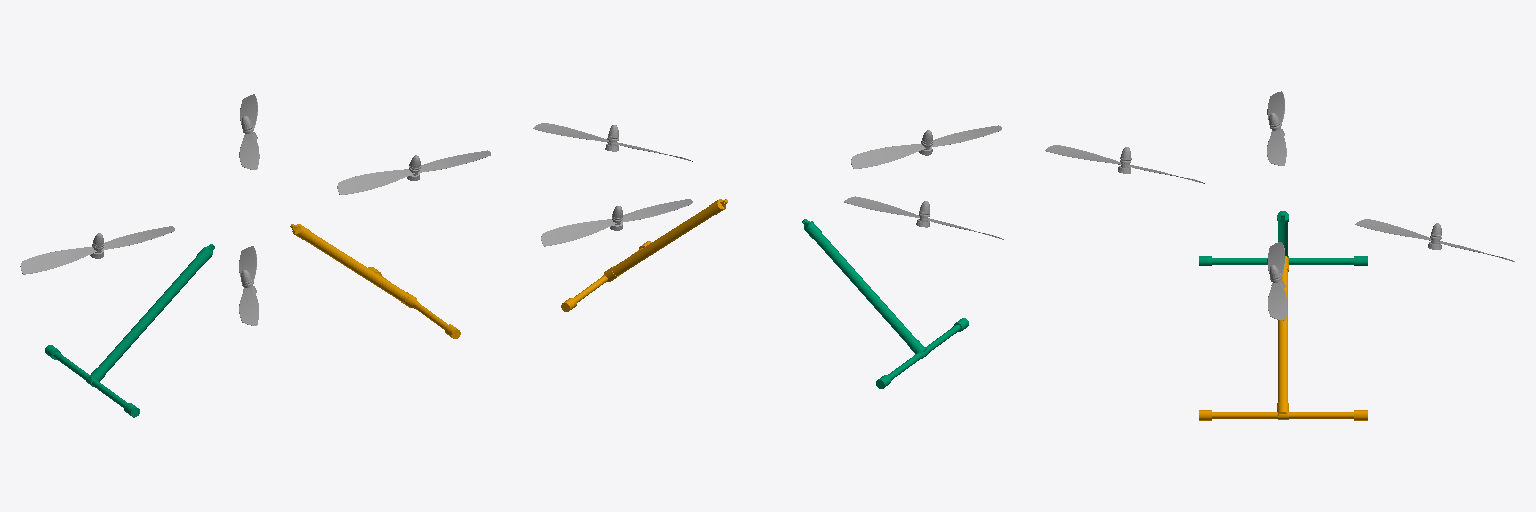
--- Render facts (derived) ---
Views: 3 orthographic renders of the robot side by side, from view 1: azimuth 30°, elevation 25°; view 2: azimuth 150°, elevation 25°; view 3: azimuth 270°, elevation 25°.
Robot: hexatilt — 12 links, 11 joints (2 revolute, 6 continuous, 3 fixed); root link base_link; default pose: all joints at 0 but 2 set to mid-range because 0 is outside their limits (leg_1_joint = -0.8725, leg_2_joint = 0.8725).
Links seen in each view (by area): view 1: leg_2, leg_1, rotor_4, rotor_5, rotor_3, rotor_2; view 2: leg_2, leg_1, rotor_2, rotor_3, rotor_4, rotor_5; view 3: leg_1, leg_2, rotor_5, rotor_4, rotor_2, rotor_3.
Boxes of the visible links, bbox=[...] form: leg_2: bbox=[45, 244, 214, 417]; leg_1: bbox=[290, 224, 460, 338]; rotor_4: bbox=[20, 226, 174, 274]; rotor_5: bbox=[337, 150, 490, 194]; rotor_3: bbox=[239, 246, 258, 325]; rotor_2: bbox=[239, 94, 259, 169]; leg_2: bbox=[802, 219, 968, 388]; leg_1: bbox=[561, 199, 727, 311]; rotor_2: bbox=[541, 199, 692, 246]; rotor_3: bbox=[851, 125, 1001, 168]; rotor_4: bbox=[844, 196, 1003, 239]; rotor_5: bbox=[533, 123, 692, 161]; leg_1: bbox=[1199, 256, 1367, 420]; leg_2: bbox=[1199, 211, 1367, 265]; rotor_5: bbox=[1267, 242, 1286, 320]; rotor_4: bbox=[1267, 91, 1286, 165]; rotor_2: bbox=[1355, 219, 1514, 261]; rotor_3: bbox=[1045, 145, 1204, 183].
Size in the robot's own frame: 1.28 by 1.12 by 0.4057 metres.
6 mesh visuals loaded from 4 distinct referenced files (2 Collada DAE); not drawn: 3 (reference not matched to a file when rendering).

URDF robot description (hexatilt):
<?xml version="1.0" ?>
<!-- =================================================================================== -->
<!-- |    This document was autogenerated by xacro from hexatilt_base.xacro            | -->
<!-- |    EDITING THIS FILE BY HAND IS NOT RECOMMENDED                                 | -->
<!-- =================================================================================== -->
<robot name="hexatilt" xmlns:xacro="http://ros.org/wiki/xacro">
  <gazebo>
    <plugin filename="libpropulsion_plugin.so" name="propulsion_plugin">
    </plugin>
  </gazebo>
  <!--<gazebo>
    <plugin name="control_plugin" filename="libcontrol_plugin.so">
    </plugin>
  </gazebo>-->
  <gazebo>
    <plugin filename="libfake_sensor_plugin.so" name="fake_sensor_plugin">
    </plugin>
  </gazebo>
  <gazebo>
    <plugin filename="libgazebo_ros_control.so" name="gazebo_ros_control">
      <robotNamespace>/drone</robotNamespace>
    </plugin>
  </gazebo>
  <gazebo>
    <plugin filename="libhector_gazebo_ros_imu.so" name="drone_internal_imu_plugin">
      <robotNamespace>/drone</robotNamespace>
      <alwaysOn>true</alwaysOn>
      <bodyName>base_link</bodyName>
      <frameName>base_link</frameName>
      <topicName>IMU/imu_data</topicName>
      <serviceName>drone/internal_sensors/imu_service</serviceName>
      <updateRate>100.0</updateRate>
      <gaussianNoise>0.001</gaussianNoise>
      <!-- accelerometer params -->
      <accelOffset>0.0 0.0 0.0</accelOffset>
      <accelGaussianNoise>0.0003 0.0003 0.0003</accelGaussianNoise>
      <accelDrift>0.00004 0.00004 0.00004</accelDrift>
      <accelFrequency>0.0025 0.0025 0.0025</accelFrequency>
      <!-- gyroscope params -->
      <rateOffset>0.0 0.0 0.0</rateOffset>
      <rateDrift>0.01 0.01 0.01</rateDrift>
      <rateDriftFrequency>0.001 0.001 0.001</rateDriftFrequency>
      <rateGaussianNoise>0.01 0.01 0.01</rateGaussianNoise>
    </plugin>
  </gazebo>
  <gazebo>
    <plugin filename="libhector_gazebo_ros_magnetic.so" name="drone_internal_magnetic_sim">
      <robotNamespace>/drone</robotNamespace>
      <updateRate>100.0</updateRate>
      <bodyName>base_link</bodyName>
      <frameId>base_link</frameId>
      <topicName>MAGNET/magnetic_data</topicName>
      <offset>0 0 0</offset>
      <drift>0.0 0.0 0.0</drift>
      <gaussianNoise>1.3e-3 1.3e-3 1.3e-3</gaussianNoise>
    </plugin>
  </gazebo>
  <gazebo>
    <plugin filename="libhector_gazebo_ros_gps.so" name="drone_internal_gps_sim">
      <robotNamespace>/drone</robotNamespace>
      <updateRate>4.0</updateRate>
      <bodyName>base_link</bodyName>
      <frameId>base_link</frameId>
      <topicName>GPS/fix</topicName>
      <velocityTopicName>GPS/fix_velocity</velocityTopicName>
      <referenceLatitude>49.860246</referenceLatitude>
      <referenceLongitude>8.687077</referenceLongitude>
      <drift>0.0 0.0 0.0</drift>
      <gaussianNoise>0.01 0.01 0.01</gaussianNoise>
      <velocityDrift>0 0 0</velocityDrift>
      <velocityGaussianNoise>0.01 0.01 0.01</velocityGaussianNoise>
    </plugin>
  </gazebo>
  <gazebo reference="base_link">
    <sensor name="camera1" type="camera">
      <update_rate>30.0</update_rate>
      <camera name="head">
        <vertical_fov>3.1415926</vertical_fov>
        <image>
          <width>800</width>
          <height>800</height>
          <format>R8G8B8</format>
        </image>
        <clip>
          <near>0.02</near>
          <far>300</far>
        </clip>
        <noise>
          <type>gaussian</type>
            --&gt;
          
          <!-- Noise is sampled independently per pixel on each frame.
               That pixel's noise value is added to each of its color
               channels, which at that point lie in the range [0,1]. -->
          <mean>0.0</mean>
          <stddev>0.007</stddev>
        </noise>
      </camera>
      <plugin filename="libgazebo_ros_camera.so" name="camera_controller">
        <robotNamespace>/drone</robotNamespace>
        <alwaysOn>true</alwaysOn>
        <updateRate>0.0</updateRate>
        <cameraName>camera1</cameraName>
        <imageTopicName>image_raw</imageTopicName>
        <cameraInfoTopicName>camera_info</cameraInfoTopicName>
        <frameName>base_link</frameName>
        <hackBaseline>0.07</hackBaseline>
        <distortionK1>0.0</distortionK1>
        <distortionK2>0.0</distortionK2>
        <distortionK3>0.0</distortionK3>
        <distortionT1>0.0</distortionT1>
        <distortionT2>0.0</distortionT2>
      </plugin>
    </sensor>
  </gazebo>
  <!-- [m] -->
  <link name="base_link"/>
  <joint name="base_joint" type="fixed">
    <origin rpy="0 0 0" xyz="0 0 0"/>
    <parent link="base_link"/>
    <child link="base_link_inertia"/>
  </joint>
  <link name="base_link_inertia">
    <inertial>
      <mass value="4.5"/>
      <!-- [kg] -->
      <origin xyz="0 0 0"/>
      <inertia ixx="0.0347563" ixy="0.0" ixz="0.0" iyy="0.0458929" iyz="0.0" izz="0.0977"/>
    </inertial>
    <visual>
      <origin rpy="0 0 0" xyz="0 0 0"/>
      <geometry>
        <mesh filename="package://hexatilt_description/meshes/hexatilt.dae" scale="0.001 0.001 0.001"/>
        <!-- <box size="${body_width} ${body_width} ${body_height}"/> -->
        <!-- [m] [m] [m] -->
      </geometry>
    </visual>
    <collision>
      <origin rpy="0 0 0" xyz="0 0 0"/>
      <geometry>
        <cylinder length="0.085" radius="0.45"/>
        <!-- [m] -->
        <!--box size="${body_width} ${body_width} ${body_height}" /-->
        <!-- [m] [m] [m] -->
      </geometry>
    </collision>
  </link>
  <!-- attach multirotor_base_plugin to the base_link -->
  <gazebo>
    <plugin filename="librotors_gazebo_multirotor_base_plugin.so" name="rosbag">
      <robotNamespace>hexatilt</robotNamespace>
      <linkName>base_link</linkName>
      <rotorVelocitySlowdownSim>10</rotorVelocitySlowdownSim>
    </plugin>
  </gazebo>
  <gazebo reference="base_link">
    <material>Gazebo/DarkGrey</material>
    <collision name="base_link_inertia_collision">
      <surface>
        <contact>
          <ode>
            <min_depth>0.001</min_depth>
            <max_vel>0.0</max_vel>
          </ode>
        </contact>
        <friction>
          <ode/>
        </friction>
      </surface>
    </collision>
  </gazebo>
  <joint name="rotor_0_joint" type="continuous">
    <origin rpy="0.2373645808 0  2.09439336" xyz="0.23 -0.37 0.06"/>
    <axis xyz="0 0 1"/>
    <!-- TODO(ff): not currently set because it's not yet supported -->
    <!-- <limit effort="2000" velocity="${max_rot_velocity}" /> -->
    <parent link="base_link"/>
    <child link="rotor_0"/>
  </joint>
  <!-- TODO(ff): not currently set because it's not yet supported -->
  <!-- <gazebo reference="rotor_${motor_number}_joint"> <axis> <xyz>0 0 1</xyz>
      <limit> <velocity> ${max_rot_velocity} </velocity> </limit> </axis> </gazebo> -->
  <link name="rotor_0">
    <inertial>
      <mass value="0.01"/>
      <!-- [kg] -->
      <inertia ixx="1.95e-06" ixy="0.0" ixz="0.0" iyy="0.00120975" iyz="0.0" izz="0.00121155"/>
    </inertial>
    <visual>
      <geometry>
        <!-- <cylinder length="0.005" radius="${radius_rotor}"/> -->
        <!-- [m] -->
        <mesh filename="package://hexatilt_description/meshes/hexatilt_prop_ccw.dae" scale="0.098 0.098 0.098"/>
        <!-- <box size="${2*radius_rotor} 0.01 0.005"/> -->
      </geometry>
    </visual>
    <collision>
      <geometry>
        <cylinder length="0.005" radius="0.1905"/>
        <!-- [m] -->
      </geometry>
    </collision>
  </link>
  <gazebo>
    <plugin filename="librotors_gazebo_motor_model.so" name="front_right_motor_model">
      <robotNamespace>hexatilt</robotNamespace>
      <jointName>rotor_0_joint</jointName>
      <linkName>rotor_0</linkName>
      <turningDirection>ccw</turningDirection>
      <timeConstantUp>0.0125</timeConstantUp>
      <timeConstantDown>0.025</timeConstantDown>
      <maxRotVelocity>1100</maxRotVelocity>
      <motorConstant>8.54858e-06</motorConstant>
      <momentConstant>0.06</momentConstant>
      <commandSubTopic>/gazebo/command/motor_speed</commandSubTopic>
      <motorNumber>0</motorNumber>
      <rotorDragCoefficient>0.000806428</rotorDragCoefficient>
      <rollingMomentCoefficient>1e-06</rollingMomentCoefficient>
      <motorSpeedPubTopic>/motor_speed/0</motorSpeedPubTopic>
      <rotorVelocitySlowdownSim>10</rotorVelocitySlowdownSim>
      <!--
        <gazebo_joint_control_pid>
          <p>0.1</p>
          <i>0</i>
          <d>0</d>
          <iMax>0</iMax>
          <iMin>0</iMin>
          <cmdMax>3</cmdMax>
          <cmdMin>-3</cmdMin>
        </gazebo_joint_control_pid>
      -->
    </plugin>
  </gazebo>
  <gazebo reference="rotor_0">
    <material>Gazebo/DarkGrey</material>
  </gazebo>
  <joint name="rotor_1_joint" type="continuous">
    <origin rpy="-0.2373645808 0  -1.04719668" xyz="-0.2 0.37 0.06"/>
    <axis xyz="0 0 1"/>
    <!-- TODO(ff): not currently set because it's not yet supported -->
    <!-- <limit effort="2000" velocity="${max_rot_velocity}" /> -->
    <parent link="base_link"/>
    <child link="rotor_1"/>
  </joint>
  <!-- TODO(ff): not currently set because it's not yet supported -->
  <!-- <gazebo reference="rotor_${motor_number}_joint"> <axis> <xyz>0 0 1</xyz>
      <limit> <velocity> ${max_rot_velocity} </velocity> </limit> </axis> </gazebo> -->
  <link name="rotor_1">
    <inertial>
      <mass value="0.01"/>
      <!-- [kg] -->
      <inertia ixx="1.95e-06" ixy="0.0" ixz="0.0" iyy="0.00120975" iyz="0.0" izz="0.00121155"/>
    </inertial>
    <visual>
      <geometry>
        <!-- <cylinder length="0.005" radius="${radius_rotor}"/> -->
        <!-- [m] -->
        <mesh filename="package://hexatilt_description/meshes/hexatilt_prop_ccw.dae" scale="0.098 0.098 0.098"/>
        <!-- <box size="${2*radius_rotor} 0.01 0.005"/> -->
      </geometry>
    </visual>
    <collision>
      <geometry>
        <cylinder length="0.005" radius="0.1905"/>
        <!-- [m] -->
      </geometry>
    </collision>
  </link>
  <gazebo>
    <plugin filename="librotors_gazebo_motor_model.so" name="back_left_motor_model">
      <robotNamespace>hexatilt</robotNamespace>
      <jointName>rotor_1_joint</jointName>
      <linkName>rotor_1</linkName>
      <turningDirection>ccw</turningDirection>
      <timeConstantUp>0.0125</timeConstantUp>
      <timeConstantDown>0.025</timeConstantDown>
      <maxRotVelocity>1100</maxRotVelocity>
      <motorConstant>8.54858e-06</motorConstant>
      <momentConstant>0.06</momentConstant>
      <commandSubTopic>/gazebo/command/motor_speed</commandSubTopic>
      <motorNumber>1</motorNumber>
      <rotorDragCoefficient>0.000806428</rotorDragCoefficient>
      <rollingMomentCoefficient>1e-06</rollingMomentCoefficient>
      <motorSpeedPubTopic>/motor_speed/1</motorSpeedPubTopic>
      <rotorVelocitySlowdownSim>10</rotorVelocitySlowdownSim>
      <!--
        <gazebo_joint_control_pid>
          <p>0.1</p>
          <i>0</i>
          <d>0</d>
          <iMax>0</iMax>
          <iMin>0</iMin>
          <cmdMax>3</cmdMax>
          <cmdMin>-3</cmdMin>
        </gazebo_joint_control_pid>
      -->
    </plugin>
  </gazebo>
  <gazebo reference="rotor_1">
    <material>Gazebo/Red</material>
  </gazebo>
  <joint name="rotor_2_joint" type="continuous">
    <origin rpy="0.2373645808 0  4.18878672" xyz="0.2 0.37 0.06"/>
    <axis xyz="0 0 1"/>
    <!-- TODO(ff): not currently set because it's not yet supported -->
    <!-- <limit effort="2000" velocity="${max_rot_velocity}" /> -->
    <parent link="base_link"/>
    <child link="rotor_2"/>
  </joint>
  <!-- TODO(ff): not currently set because it's not yet supported -->
  <!-- <gazebo reference="rotor_${motor_number}_joint"> <axis> <xyz>0 0 1</xyz>
      <limit> <velocity> ${max_rot_velocity} </velocity> </limit> </axis> </gazebo> -->
  <link name="rotor_2">
    <inertial>
      <mass value="0.01"/>
      <!-- [kg] -->
      <inertia ixx="1.95e-06" ixy="0.0" ixz="0.0" iyy="0.00120975" iyz="0.0" izz="0.00121155"/>
    </inertial>
    <visual>
      <geometry>
        <!-- <cylinder length="0.005" radius="${radius_rotor}"/> -->
        <!-- [m] -->
        <mesh filename="package://hexatilt_description/meshes/hexatilt_prop_cw.dae" scale="0.098 0.098 0.098"/>
        <!-- <box size="${2*radius_rotor} 0.01 0.005"/> -->
      </geometry>
    </visual>
    <collision>
      <geometry>
        <cylinder length="0.005" radius="0.1905"/>
        <!-- [m] -->
      </geometry>
    </collision>
  </link>
  <gazebo>
    <plugin filename="librotors_gazebo_motor_model.so" name="front_left_motor_model">
      <robotNamespace>hexatilt</robotNamespace>
      <jointName>rotor_2_joint</jointName>
      <linkName>rotor_2</linkName>
      <turningDirection>cw</turningDirection>
      <timeConstantUp>0.0125</timeConstantUp>
      <timeConstantDown>0.025</timeConstantDown>
      <maxRotVelocity>1100</maxRotVelocity>
      <motorConstant>8.54858e-06</motorConstant>
      <momentConstant>0.06</momentConstant>
      <commandSubTopic>/gazebo/command/motor_speed</commandSubTopic>
      <motorNumber>2</motorNumber>
      <rotorDragCoefficient>0.000806428</rotorDragCoefficient>
      <rollingMomentCoefficient>1e-06</rollingMomentCoefficient>
      <motorSpeedPubTopic>/motor_speed/2</motorSpeedPubTopic>
      <rotorVelocitySlowdownSim>10</rotorVelocitySlowdownSim>
      <!--
        <gazebo_joint_control_pid>
          <p>0.1</p>
          <i>0</i>
          <d>0</d>
          <iMax>0</iMax>
          <iMin>0</iMin>
          <cmdMax>3</cmdMax>
          <cmdMin>-3</cmdMin>
        </gazebo_joint_control_pid>
      -->
    </plugin>
  </gazebo>
  <gazebo reference="rotor_2">
    <material>Gazebo/Red</material>
  </gazebo>
  <joint name="rotor_3_joint" type="continuous">
    <origin rpy="-0.2373645808 0  1.04719668" xyz="-0.23 -0.37 0.06"/>
    <axis xyz="0 0 1"/>
    <!-- TODO(ff): not currently set because it's not yet supported -->
    <!-- <limit effort="2000" velocity="${max_rot_velocity}" /> -->
    <parent link="base_link"/>
    <child link="rotor_3"/>
  </joint>
  <!-- TODO(ff): not currently set because it's not yet supported -->
  <!-- <gazebo reference="rotor_${motor_number}_joint"> <axis> <xyz>0 0 1</xyz>
      <limit> <velocity> ${max_rot_velocity} </velocity> </limit> </axis> </gazebo> -->
  <link name="rotor_3">
    <inertial>
      <mass value="0.01"/>
      <!-- [kg] -->
      <inertia ixx="1.95e-06" ixy="0.0" ixz="0.0" iyy="0.00120975" iyz="0.0" izz="0.00121155"/>
    </inertial>
    <visual>
      <geometry>
        <!-- <cylinder length="0.005" radius="${radius_rotor}"/> -->
        <!-- [m] -->
        <mesh filename="package://hexatilt_description/meshes/hexatilt_prop_cw.dae" scale="0.098 0.098 0.098"/>
        <!-- <box size="${2*radius_rotor} 0.01 0.005"/> -->
      </geometry>
    </visual>
    <collision>
      <geometry>
        <cylinder length="0.005" radius="0.1905"/>
        <!-- [m] -->
      </geometry>
    </collision>
  </link>
  <gazebo>
    <plugin filename="librotors_gazebo_motor_model.so" name="back_right_motor_model">
      <robotNamespace>hexatilt</robotNamespace>
      <jointName>rotor_3_joint</jointName>
      <linkName>rotor_3</linkName>
      <turningDirection>cw</turningDirection>
      <timeConstantUp>0.0125</timeConstantUp>
      <timeConstantDown>0.025</timeConstantDown>
      <maxRotVelocity>1100</maxRotVelocity>
      <motorConstant>8.54858e-06</motorConstant>
      <momentConstant>0.06</momentConstant>
      <commandSubTopic>/gazebo/command/motor_speed</commandSubTopic>
      <motorNumber>3</motorNumber>
      <rotorDragCoefficient>0.000806428</rotorDragCoefficient>
      <rollingMomentCoefficient>1e-06</rollingMomentCoefficient>
      <motorSpeedPubTopic>/motor_speed/3</motorSpeedPubTopic>
      <rotorVelocitySlowdownSim>10</rotorVelocitySlowdownSim>
      <!--
        <gazebo_joint_control_pid>
          <p>0.1</p>
          <i>0</i>
          <d>0</d>
          <iMax>0</iMax>
          <iMin>0</iMin>
          <cmdMax>3</cmdMax>
          <cmdMin>-3</cmdMin>
        </gazebo_joint_control_pid>
      -->
    </plugin>
  </gazebo>
  <gazebo reference="rotor_3">
    <material>Gazebo/DarkGrey</material>
  </gazebo>
  <joint name="rotor_4_joint" type="continuous">
    <origin rpy="0.2373645808 0  0.0" xyz="-0.43 -0.01 0.06"/>
    <axis xyz="0 0 1"/>
    <!-- TODO(ff): not currently set because it's not yet supported -->
    <!-- <limit effort="2000" velocity="${max_rot_velocity}" /> -->
    <parent link="base_link"/>
    <child link="rotor_4"/>
  </joint>
  <!-- TODO(ff): not currently set because it's not yet supported -->
  <!-- <gazebo reference="rotor_${motor_number}_joint"> <axis> <xyz>0 0 1</xyz>
      <limit> <velocity> ${max_rot_velocity} </velocity> </limit> </axis> </gazebo> -->
  <link name="rotor_4">
    <inertial>
      <mass value="0.01"/>
      <!-- [kg] -->
      <inertia ixx="1.95e-06" ixy="0.0" ixz="0.0" iyy="0.00120975" iyz="0.0" izz="0.00121155"/>
    </inertial>
    <visual>
      <geometry>
        <!-- <cylinder length="0.005" radius="${radius_rotor}"/> -->
        <!-- [m] -->
        <mesh filename="package://hexatilt_description/meshes/hexatilt_prop_cw.dae" scale="0.098 0.098 0.098"/>
        <!-- <box size="${2*radius_rotor} 0.01 0.005"/> -->
      </geometry>
    </visual>
    <collision>
      <geometry>
        <cylinder length="0.005" radius="0.1905"/>
        <!-- [m] -->
      </geometry>
    </collision>
  </link>
  <gazebo>
    <plugin filename="librotors_gazebo_motor_model.so" name="back_right_motor_model">
      <robotNamespace>hexatilt</robotNamespace>
      <jointName>rotor_4_joint</jointName>
      <linkName>rotor_4</linkName>
      <turningDirection>cw</turningDirection>
      <timeConstantUp>0.0125</timeConstantUp>
      <timeConstantDown>0.025</timeConstantDown>
      <maxRotVelocity>1100</maxRotVelocity>
      <motorConstant>8.54858e-06</motorConstant>
      <momentConstant>0.06</momentConstant>
      <commandSubTopic>/gazebo/command/motor_speed</commandSubTopic>
      <motorNumber>4</motorNumber>
      <rotorDragCoefficient>0.000806428</rotorDragCoefficient>
      <rollingMomentCoefficient>1e-06</rollingMomentCoefficient>
      <motorSpeedPubTopic>/motor_speed/4</motorSpeedPubTopic>
      <rotorVelocitySlowdownSim>10</rotorVelocitySlowdownSim>
      <!--
        <gazebo_joint_control_pid>
          <p>0.1</p>
          <i>0</i>
          <d>0</d>
          <iMax>0</iMax>
          <iMin>0</iMin>
          <cmdMax>3</cmdMax>
          <cmdMin>-3</cmdMin>
        </gazebo_joint_control_pid>
      -->
    </plugin>
  </gazebo>
  <gazebo reference="rotor_4">
    <material>Gazebo/DarkGrey</material>
  </gazebo>
  <joint name="rotor_5_joint" type="continuous">
    <origin rpy="-0.2373645808 0  3.14159004" xyz="0.43 -0.01 0.06"/>
    <axis xyz="0 0 1"/>
    <!-- TODO(ff): not currently set because it's not yet supported -->
    <!-- <limit effort="2000" velocity="${max_rot_velocity}" /> -->
    <parent link="base_link"/>
    <child link="rotor_5"/>
  </joint>
  <!-- TODO(ff): not currently set because it's not yet supported -->
  <!-- <gazebo reference="rotor_${motor_number}_joint"> <axis> <xyz>0 0 1</xyz>
      <limit> <velocity> ${max_rot_velocity} </velocity> </limit> </axis> </gazebo> -->
  <link name="rotor_5">
    <inertial>
      <mass value="0.01"/>
      <!-- [kg] -->
      <inertia ixx="1.95e-06" ixy="0.0" ixz="0.0" iyy="0.00120975" iyz="0.0" izz="0.00121155"/>
    </inertial>
    <visual>
      <geometry>
        <!-- <cylinder length="0.005" radius="${radius_rotor}"/> -->
        <!-- [m] -->
        <mesh filename="package://hexatilt_description/meshes/hexatilt_prop_cw.dae" scale="0.098 0.098 0.098"/>
        <!-- <box size="${2*radius_rotor} 0.01 0.005"/> -->
      </geometry>
    </visual>
    <collision>
      <geometry>
        <cylinder length="0.005" radius="0.1905"/>
        <!-- [m] -->
      </geometry>
    </collision>
  </link>
  <gazebo>
    <plugin filename="librotors_gazebo_motor_model.so" name="back_right_motor_model">
      <robotNamespace>hexatilt</robotNamespace>
      <jointName>rotor_5_joint</jointName>
      <linkName>rotor_5</linkName>
      <turningDirection>cw</turningDirection>
      <timeConstantUp>0.0125</timeConstantUp>
      <timeConstantDown>0.025</timeConstantDown>
      <maxRotVelocity>1100</maxRotVelocity>
      <motorConstant>8.54858e-06</motorConstant>
      <momentConstant>0.06</momentConstant>
      <commandSubTopic>/gazebo/command/motor_speed</commandSubTopic>
      <motorNumber>5</motorNumber>
      <rotorDragCoefficient>0.000806428</rotorDragCoefficient>
      <rollingMomentCoefficient>1e-06</rollingMomentCoefficient>
      <motorSpeedPubTopic>/motor_speed/5</motorSpeedPubTopic>
      <rotorVelocitySlowdownSim>10</rotorVelocitySlowdownSim>
      <!--
        <gazebo_joint_control_pid>
          <p>0.1</p>
          <i>0</i>
          <d>0</d>
          <iMax>0</iMax>
          <iMin>0</iMin>
          <cmdMax>3</cmdMax>
          <cmdMin>-3</cmdMin>
        </gazebo_joint_control_pid>
      -->
    </plugin>
  </gazebo>
  <gazebo reference="rotor_5">
    <material>Gazebo/DarkGrey</material>
  </gazebo>
  <!-- Landing gear joint: -->
  <joint name="leg_1_joint" type="revolute">
    <origin rpy="0 0 0" xyz="0.11 0 -0.02"/>
    <axis xyz="0 1 0"/>
    <!-- TODO(ff): not currently set because it's not yet supported -->
    <!-- <limit effort="2000" velocity="${max_rot_velocity}" /> -->
    <limit effort="0" lower="-0.1745" upper="-1.5705" velocity="0"/>
    <parent link="base_link"/>
    <child link="leg_1"/>
  </joint>
  <!-- Leg link -->
  <link name="leg_1">
    <inertial>
      <origin rpy="0 0 0 " xyz="0 0 -0.2065"/>
      <mass value="0.18"/>
      <!-- [kg] -->
      <inertia ixx="1.95e-06" ixy="0.0" ixz="0.0" iyy="0.00120975" iyz="0.0" izz="0.00121155"/>
    </inertial>
    <visual>
      <origin rpy="0 0 0 " xyz="0 0 0"/>
      <geometry>
        <!-- <cylinder length="0.005" radius="${radius_rotor}"/> -->
        <!-- [m] -->
        <mesh filename="package://hexatilt_description/meshes/right_leg.dae" scale="0.1 0.1 0.1"/>
        <!-- <cylinder length="${length_leg}" radius="${radius_leg}" /> <1 [m] -1> -->
      </geometry>
    </visual>
    <collision>
      <origin rpy="0 0 0 " xyz="0 0 -0.2065"/>
      <geometry>
        <cylinder length="0.413" radius="0.0125"/>
        <!-- [m] -->
      </geometry>
    </collision>
  </link>
  <!-- Joint Leg-foot fixed -->
  <joint name="foot_1_joint" type="fixed">
    <parent link="leg_1"/>
    <child link="foot_1"/>
    <origin rpy="1.57 0 0" xyz="0 0 -0.413"/>
  </joint>
  <!-- Foot link -->
  <link name="foot_1">
    <inertial>
      <mass value="0.18"/>
      <!-- [kg] -->
      <inertia ixx="1.95e-06" ixy="0.0" ixz="0.0" iyy="0.00120975" iyz="0.0" izz="0.00121155"/>
    </inertial>
    <!-- <visual> -->
    <!-- <geometry> -->
    <!-- <cylinder length="0.005" radius="${radius_rotor}"/> -->
    <!-- [m] -->
    <!-- <mesh filename="package://hexatilt_description/meshes/${mesh}_${suffix}.dae" -->
    <!-- scale="${mesh_scale}" /> -->
    <!-- <cylinder length="${length_leg}" radius="${radius_leg}" />  -->
    <!-- </geometry> -->
    <!-- </visual> -->
    <collision>
      <geometry>
        <cylinder length="0.413" radius="0.0125"/>
        <!-- [m] -->
      </geometry>
    </collision>
  </link>
  <gazebo>
    <!-- <plugin name="${suffix}_leg_model" filename="librotors_gazebo_leg_model.so"> -->
    <!-- <robotNamespace>${robot_namespace}</robotNamespace> -->
    <!-- <jointName>rotor_${leg_number}_joint</jointName> -->
    <!-- <linkName>rotor_${leg_number}</linkName> -->
    <!-- <turningDirection>${direction}</turningDirection> -->
    <!-- <timeConstantUp>${time_constant_up}</timeConstantUp> -->
    <!-- <timeConstantDown>${time_constant_down}</timeConstantDown> -->
    <!-- <maxRotVelocity>${max_rot_velocity}</maxRotVelocity> -->
    <!-- <legConstant>${leg_constant}</legConstant> -->
    <!-- <momentConstant>${moment_constant}</momentConstant> -->
    <!-- <commandSubTopic>/gazebo/command/leg_speed</commandSubTopic> -->
    <!-- <legNumber>${leg_number}</legNumber> -->
    <!-- <rotorDragCoefficient>${rotor_drag_coefficient}</rotorDragCoefficient> -->
    <!-- <rollingMomentCoefficient>${rolling_moment_coefficient}</rollingMomentCoefficient> -->
    <!-- <motorSpeedPubTopic>/motor_speed/${leg_number}</motorSpeedPubTopic> -->
    <!-- <rotorVelocitySlowdownSim>${rotor_velocity_slowdown_sim}</rotorVelocitySlowdownSim> -->
    <!--
        <gazebo_joint_control_pid>
          <p>0.1</p>
          <i>0</i>
          <d>0</d>
          <iMax>0</iMax>
          <iMin>0</iMin>
          <cmdMax>3</cmdMax>
          <cmdMin>-3</cmdMin>
        </gazebo_joint_control_pid>
      -->
    <!-- </plugin> -->
  </gazebo>
  <gazebo reference="leg_1">
    <material>Gazebo/DarkGrey</material>
  </gazebo>
  <!-- Landing gear joint: -->
  <joint name="leg_2_joint" type="revolute">
    <origin rpy="0 0 0" xyz="-0.11 0 -0.02"/>
    <axis xyz="0 1 0"/>
    <!-- TODO(ff): not currently set because it's not yet supported -->
    <!-- <limit effort="2000" velocity="${max_rot_velocity}" /> -->
    <limit effort="0" lower="0.1745" upper="1.5705" velocity="0"/>
    <parent link="base_link"/>
    <child link="leg_2"/>
  </joint>
  <!-- Leg link -->
  <link name="leg_2">
    <inertial>
      <origin rpy="0 0 0 " xyz="0 0 -0.2065"/>
      <mass value="0.18"/>
      <!-- [kg] -->
      <inertia ixx="1.95e-06" ixy="0.0" ixz="0.0" iyy="0.00120975" iyz="0.0" izz="0.00121155"/>
    </inertial>
    <visual>
      <origin rpy="0 0 0 " xyz="0 0 0"/>
      <geometry>
        <!-- <cylinder length="0.005" radius="${radius_rotor}"/> -->
        <!-- [m] -->
        <mesh filename="package://hexatilt_description/meshes/right_leg.dae" scale="0.1 0.1 0.1"/>
        <!-- <cylinder length="${length_leg}" radius="${radius_leg}" /> <1 [m] -1> -->
      </geometry>
    </visual>
    <collision>
      <origin rpy="0 0 0 " xyz="0 0 -0.2065"/>
      <geometry>
        <cylinder length="0.413" radius="0.0125"/>
        <!-- [m] -->
      </geometry>
    </collision>
  </link>
  <!-- Joint Leg-foot fixed -->
  <joint name="foot_2_joint" type="fixed">
    <parent link="leg_2"/>
    <child link="foot_2"/>
    <origin rpy="1.57 0 0" xyz="0 0 -0.413"/>
  </joint>
  <!-- Foot link -->
  <link name="foot_2">
    <inertial>
      <mass value="0.18"/>
      <!-- [kg] -->
      <inertia ixx="1.95e-06" ixy="0.0" ixz="0.0" iyy="0.00120975" iyz="0.0" izz="0.00121155"/>
    </inertial>
    <!-- <visual> -->
    <!-- <geometry> -->
    <!-- <cylinder length="0.005" radius="${radius_rotor}"/> -->
    <!-- [m] -->
    <!-- <mesh filename="package://hexatilt_description/meshes/${mesh}_${suffix}.dae" -->
    <!-- scale="${mesh_scale}" /> -->
    <!-- <cylinder length="${length_leg}" radius="${radius_leg}" />  -->
    <!-- </geometry> -->
    <!-- </visual> -->
    <collision>
      <geometry>
        <cylinder length="0.413" radius="0.0125"/>
        <!-- [m] -->
      </geometry>
    </collision>
  </link>
  <gazebo>
    <!-- <plugin name="${suffix}_leg_model" filename="librotors_gazebo_leg_model.so"> -->
    <!-- <robotNamespace>${robot_namespace}</robotNamespace> -->
    <!-- <jointName>rotor_${leg_number}_joint</jointName> -->
    <!-- <linkName>rotor_${leg_number}</linkName> -->
    <!-- <turningDirection>${direction}</turningDirection> -->
    <!-- <timeConstantUp>${time_constant_up}</timeConstantUp> -->
    <!-- <timeConstantDown>${time_constant_down}</timeConstantDown> -->
    <!-- <maxRotVelocity>${max_rot_velocity}</maxRotVelocity> -->
    <!-- <legConstant>${leg_constant}</legConstant> -->
    <!-- <momentConstant>${moment_constant}</momentConstant> -->
    <!-- <commandSubTopic>/gazebo/command/leg_speed</commandSubTopic> -->
    <!-- <legNumber>${leg_number}</legNumber> -->
    <!-- <rotorDragCoefficient>${rotor_drag_coefficient}</rotorDragCoefficient> -->
    <!-- <rollingMomentCoefficient>${rolling_moment_coefficient}</rollingMomentCoefficient> -->
    <!-- <motorSpeedPubTopic>/motor_speed/${leg_number}</motorSpeedPubTopic> -->
    <!-- <rotorVelocitySlowdownSim>${rotor_velocity_slowdown_sim}</rotorVelocitySlowdownSim> -->
    <!--
        <gazebo_joint_control_pid>
          <p>0.1</p>
          <i>0</i>
          <d>0</d>
          <iMax>0</iMax>
          <iMin>0</iMin>
          <cmdMax>3</cmdMax>
          <cmdMin>-3</cmdMin>
        </gazebo_joint_control_pid>
      -->
    <!-- </plugin> -->
  </gazebo>
  <gazebo reference="leg_2">
    <material>Gazebo/DarkGrey</material>
  </gazebo>
  <gazebo>
    <plugin filename="libgazebo_gps_plugin.so" name="gps_plugin">
      <robotNamespace>hexatilt</robotNamespace>
      <gpsNoise>true</gpsNoise>
    </plugin>
  </gazebo>
</robot>
